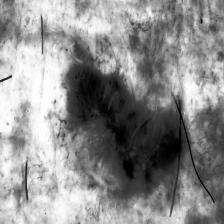Potentially Malignant Skin Tumors: (65, 42, 177, 194)
